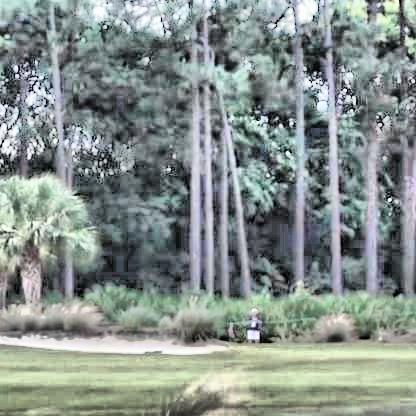golfball: (314, 98, 324, 109)
